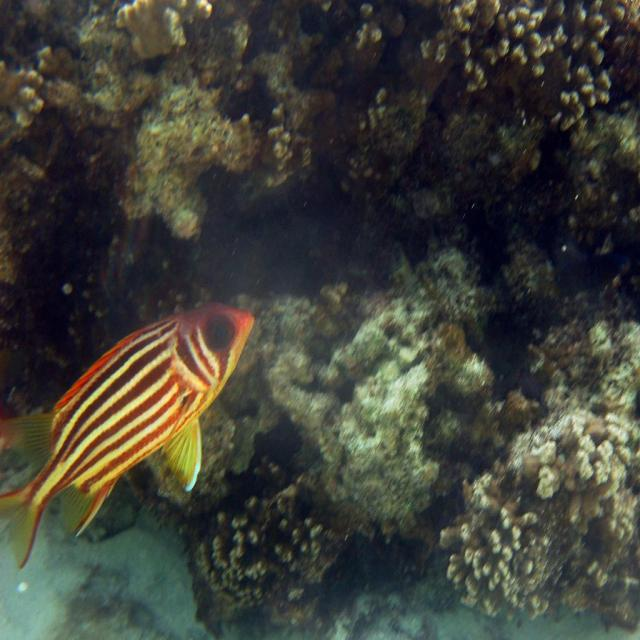Asker Baligi: (0, 287, 266, 572)
